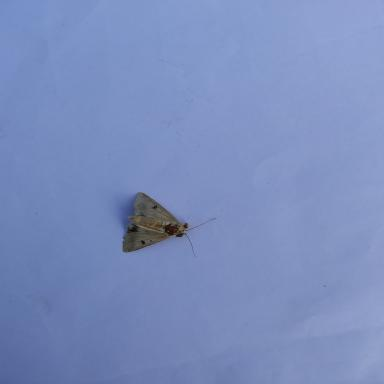abw: (118, 187, 211, 258)
